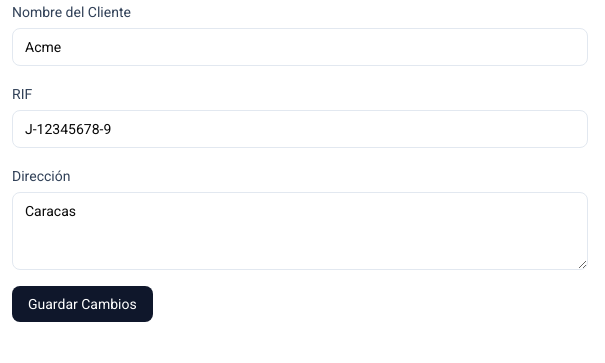
Test: <TenantInfoForm> › rejects malformed RIF via zod refine
Type "no-format" into the field labelled "RIF".
click(300, 129); type("no-format")  # box [12, 110, 588, 148]
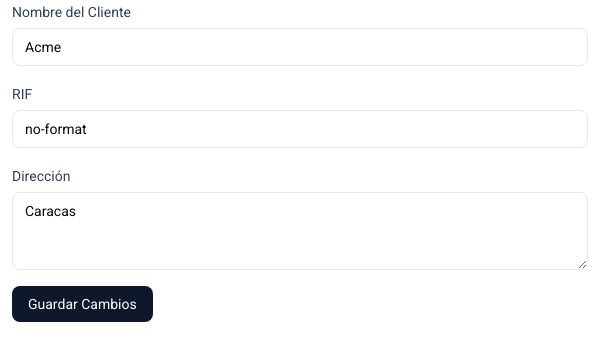
Click the button "Guardar Cambios".
click(82, 304)  # box [12, 286, 153, 322]
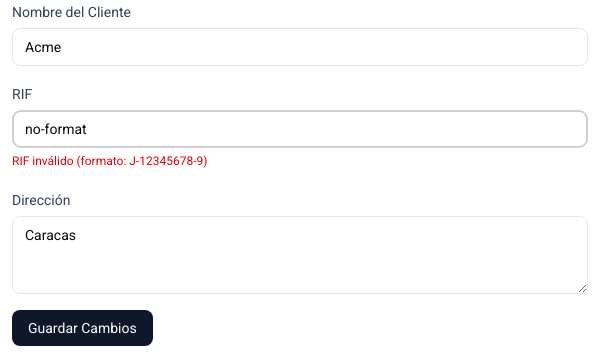
Check: the text "RIF inválido (formato: J-12345678-9)" is shown, box [12, 154, 207, 168]
